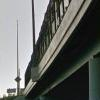Bridge: (17, 2, 86, 93)
